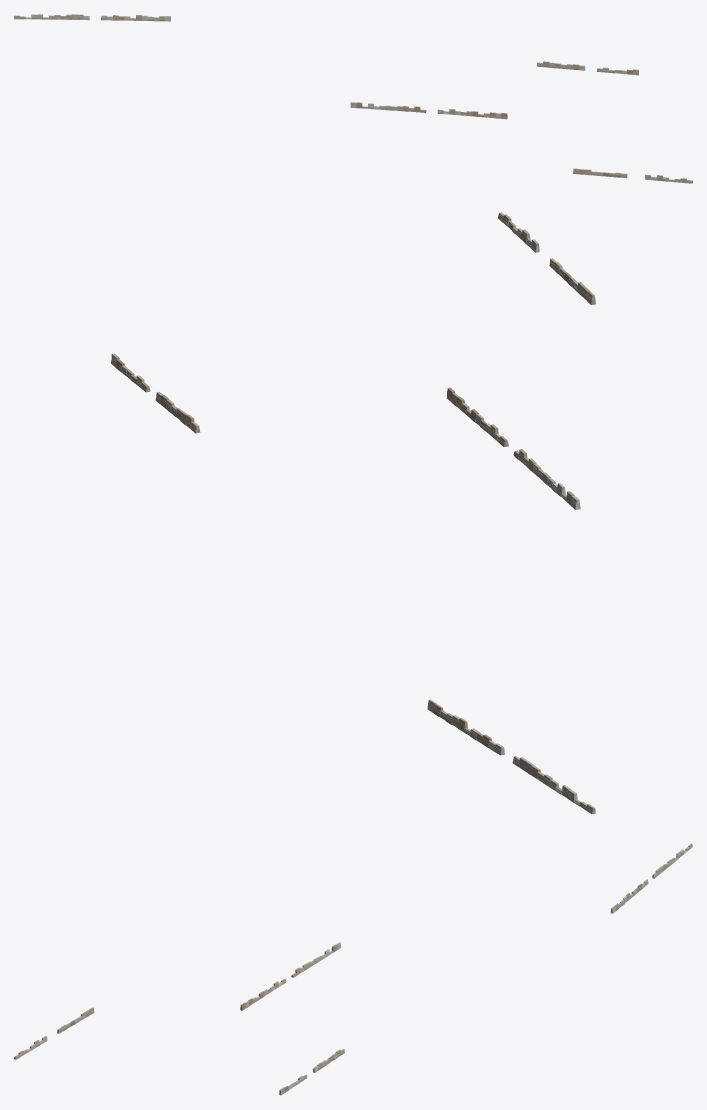
Rendered from farm_11_13_mid.glb.
3 renders of one model, top to bottom at view 1: azimuth 30°, elevation 25°; view 2: azimuth 150°, elevation 25°; view 3: azimuth 270°, elevation 25°, orthographic. The views are drawn at different scales.
Parts seen in each view (by area): view 1: geometry_0; view 2: geometry_0; view 3: geometry_0.
Part boxes in pixels (x1=…): geometry_0: x1=14, y1=14, x2=692, y2=183; geometry_0: x1=111, y1=212, x2=595, y2=814; geometry_0: x1=14, y1=843, x2=692, y2=1095.
Bounding box in the file's own units: 133 × 7.53 × 168.
